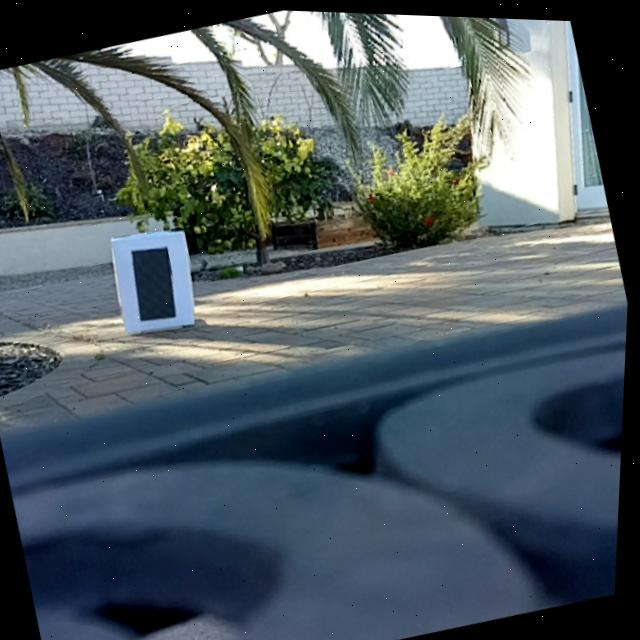led: (124, 238, 189, 326)
